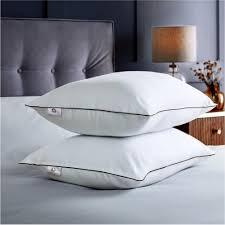lamp: (151, 19, 197, 66)
pillow: (24, 69, 216, 133), (19, 131, 214, 189)
